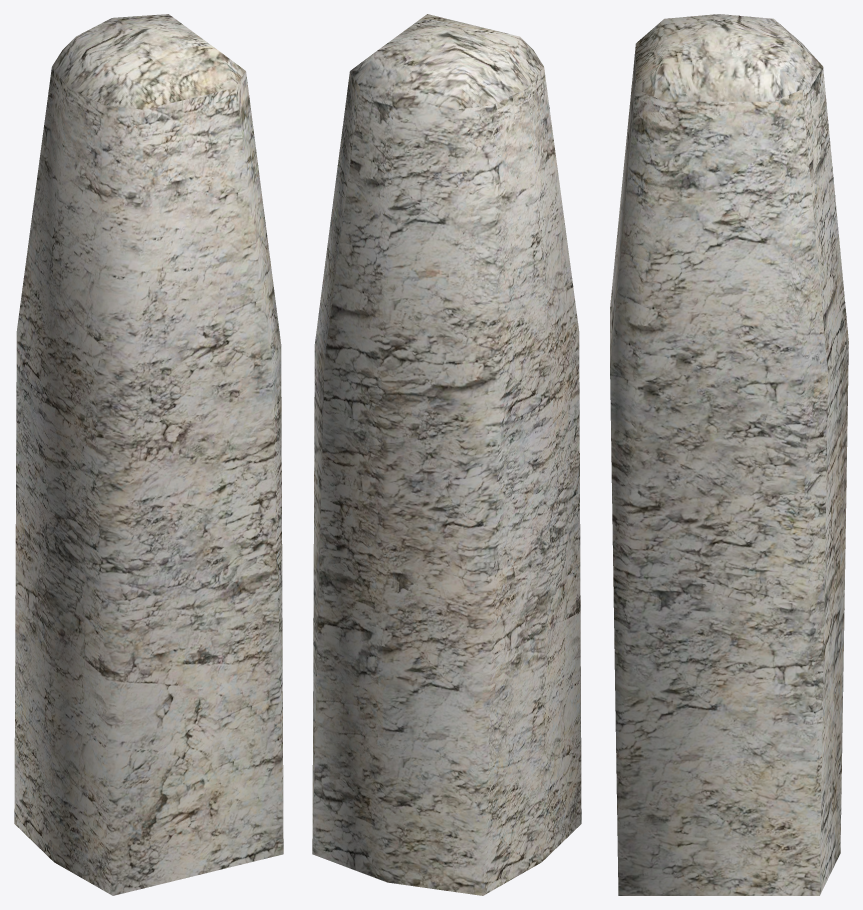
The model's file is stone_furrowed_1.dae.
The picture shows the model from 3 angles, left to right: view 1: azimuth 30°, elevation 25°; view 2: azimuth 150°, elevation 25°; view 3: azimuth 270°, elevation 25°; orthographic projection. The views are drawn at different scales.
Parts seen in each view (by area): view 1: Cube_010; view 2: Cube_010; view 3: Cube_010.
Boxes of the visible parts, <box> form: Cube_010: <box>14,14,283,895</box>; Cube_010: <box>312,14,581,895</box>; Cube_010: <box>610,14,848,895</box>.
Bounding box in the file's own units: 4.37 × 4.55 × 17.35.
